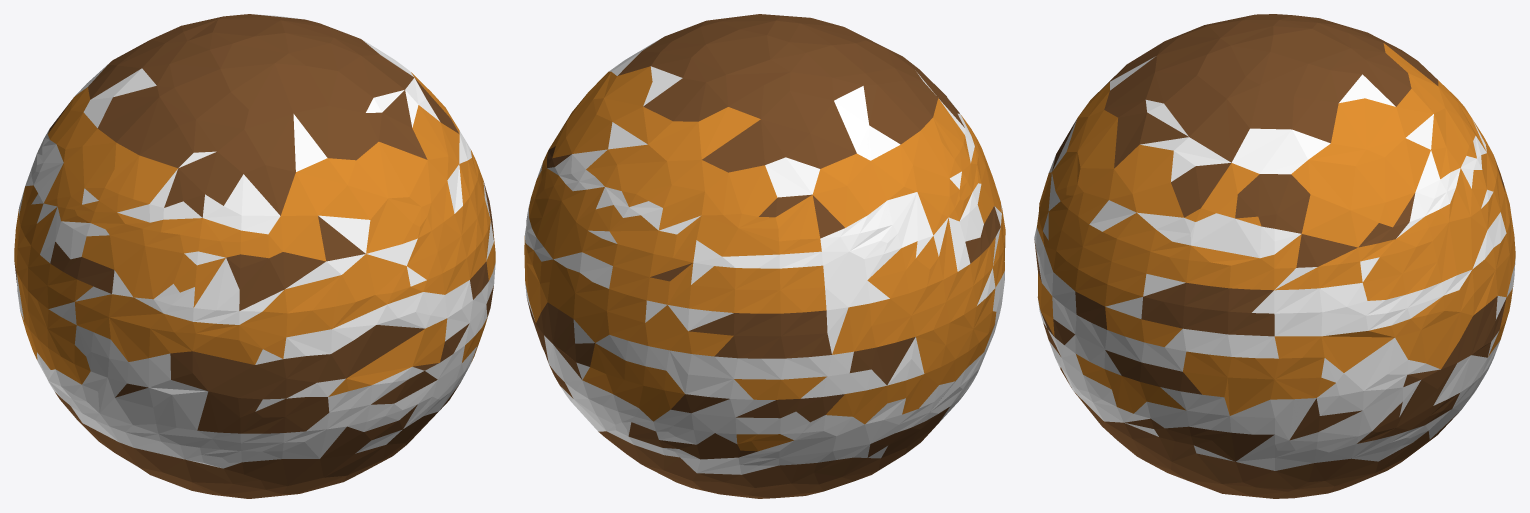
File: Jupiter.glb
3 views of the same model, side by side, from view 1: azimuth 30°, elevation 25°; view 2: azimuth 150°, elevation 25°; view 3: azimuth 270°, elevation 25° (orthographic).
Parts seen in each view (by area): view 1: Sphere002; view 2: Sphere002; view 3: Sphere002.
Boxes of the visible parts, x1,y1,x2,y2 form: Sphere002: [14, 14, 495, 498]; Sphere002: [524, 14, 1005, 498]; Sphere002: [1034, 14, 1515, 498].
Bounding box in the file's own units: 21.04 × 21.28 × 21.02.
